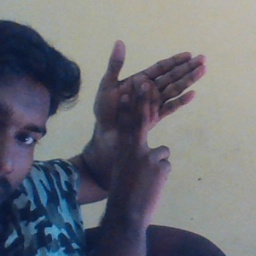N: (83, 37, 212, 193)
